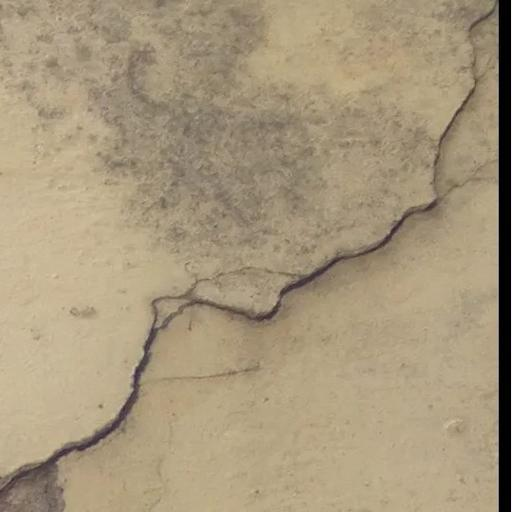major_crack: (0, 24, 466, 509)
